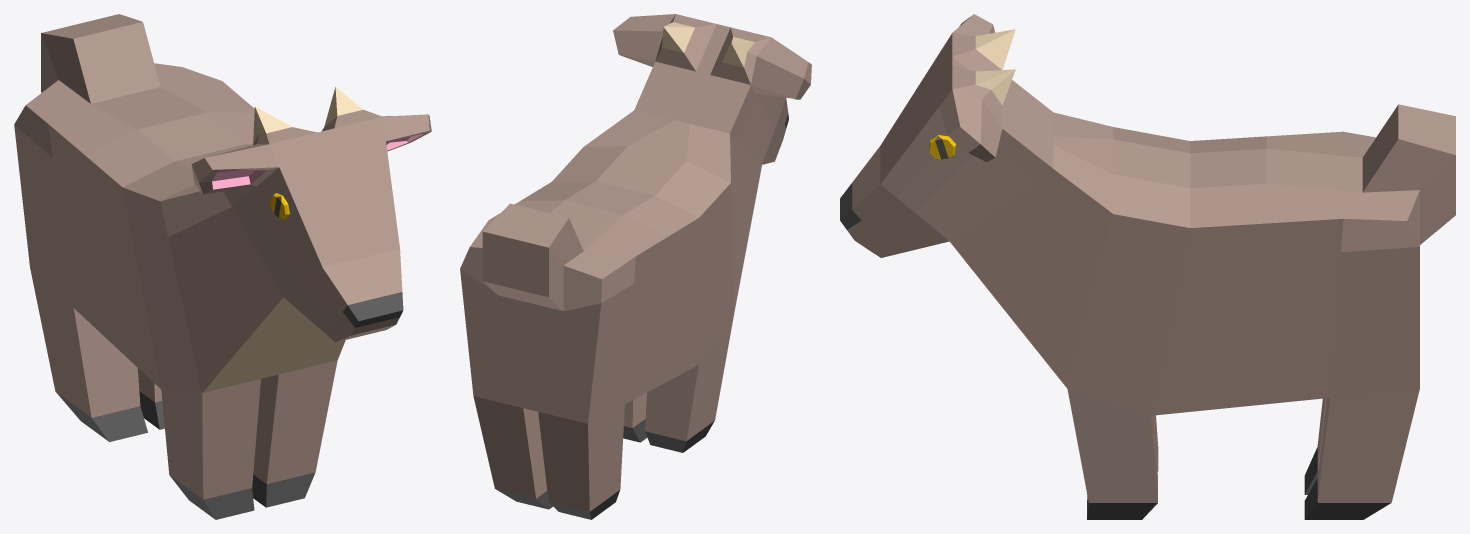
The model's file is animals-cow-042.glb.
3 renders of one model, left to right at view 1: azimuth 30°, elevation 25°; view 2: azimuth 150°, elevation 25°; view 3: azimuth 270°, elevation 25°, orthographic. The views are drawn at different scales.
Parts seen in each view (by area): view 1: Goat_01_Cube.036; view 2: Goat_01_Cube.036; view 3: Goat_01_Cube.036.
Part boxes in pixels (x1,y1,x2,y2): Goat_01_Cube.036: [14, 14, 431, 519]; Goat_01_Cube.036: [460, 14, 811, 519]; Goat_01_Cube.036: [840, 14, 1455, 519].
Bounding box in the file's own units: 15.05 × 27.12 × 33.74.
